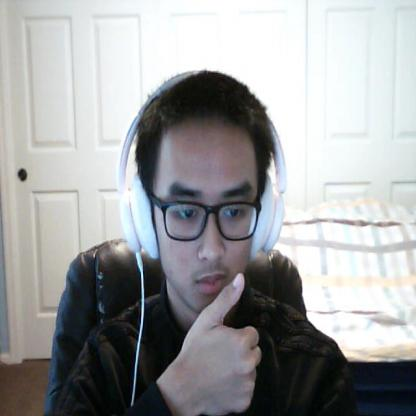Thumbs-Up: (172, 270, 264, 414)
